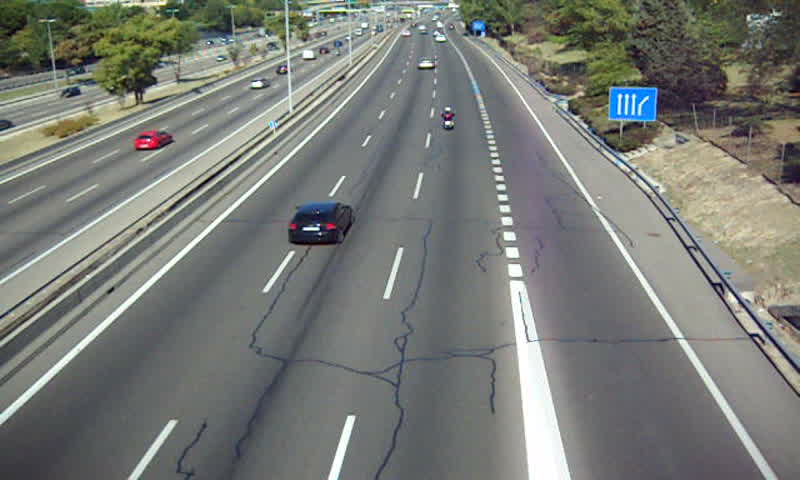car: (288, 201, 355, 243), (417, 58, 435, 72)
motorcycle: (440, 107, 457, 133)
